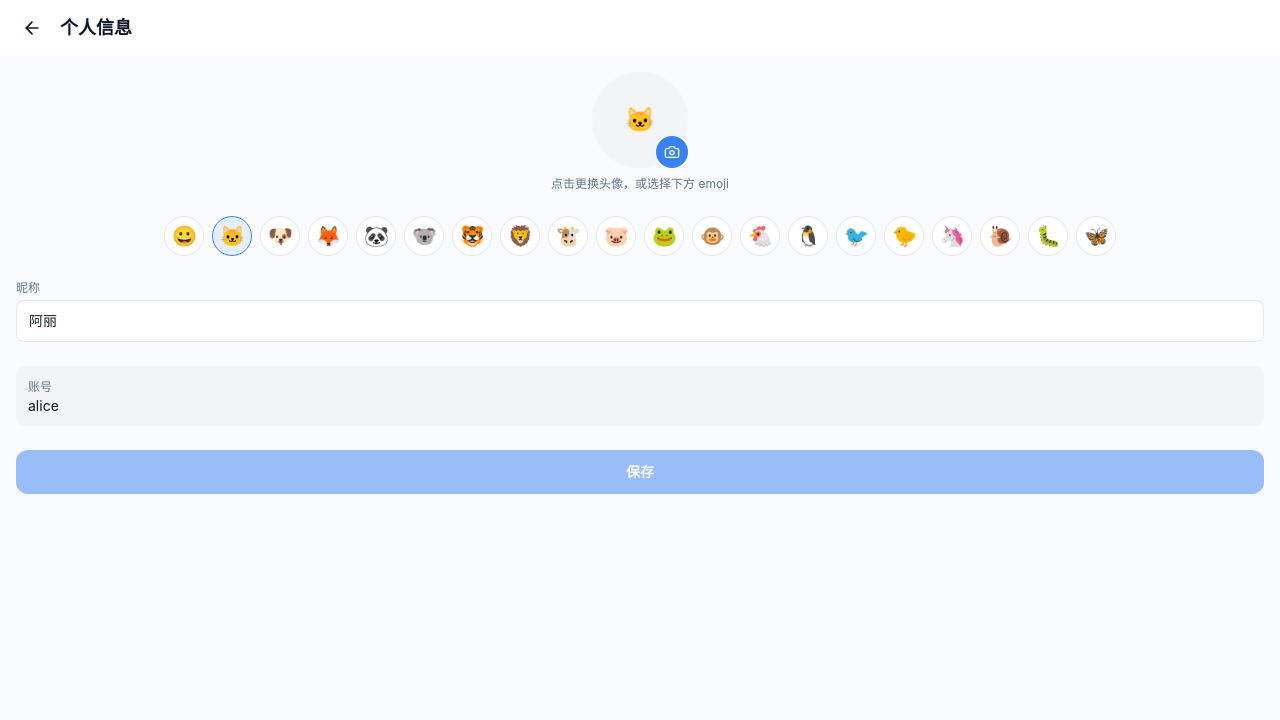
Test: ProfilePage 资料编辑 › 保存时服务端答 400 → 显示服务端文案
Replace the text in the field with test id "me-nickname" with "阿丽丽" at (640, 321), box left=16, top=300, right=1264, bottom=342
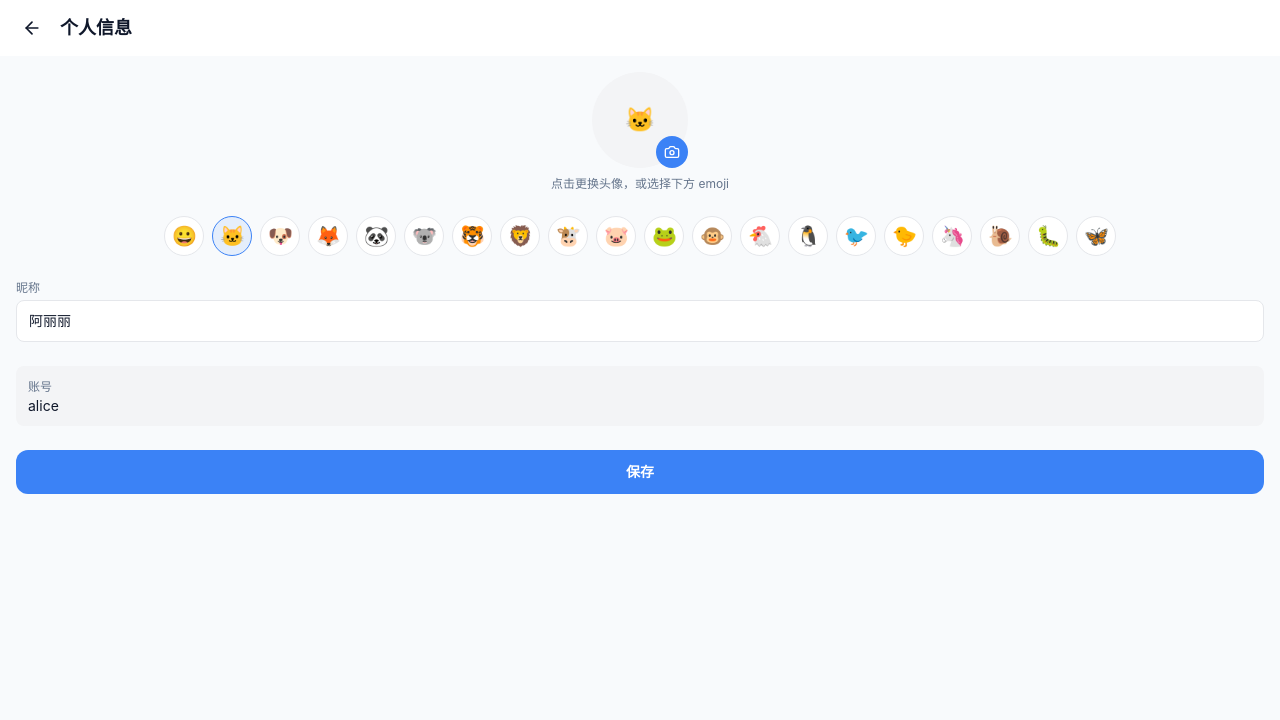
Click the button with test id "me-save" at (640, 472), box left=16, top=450, right=1264, bottom=494
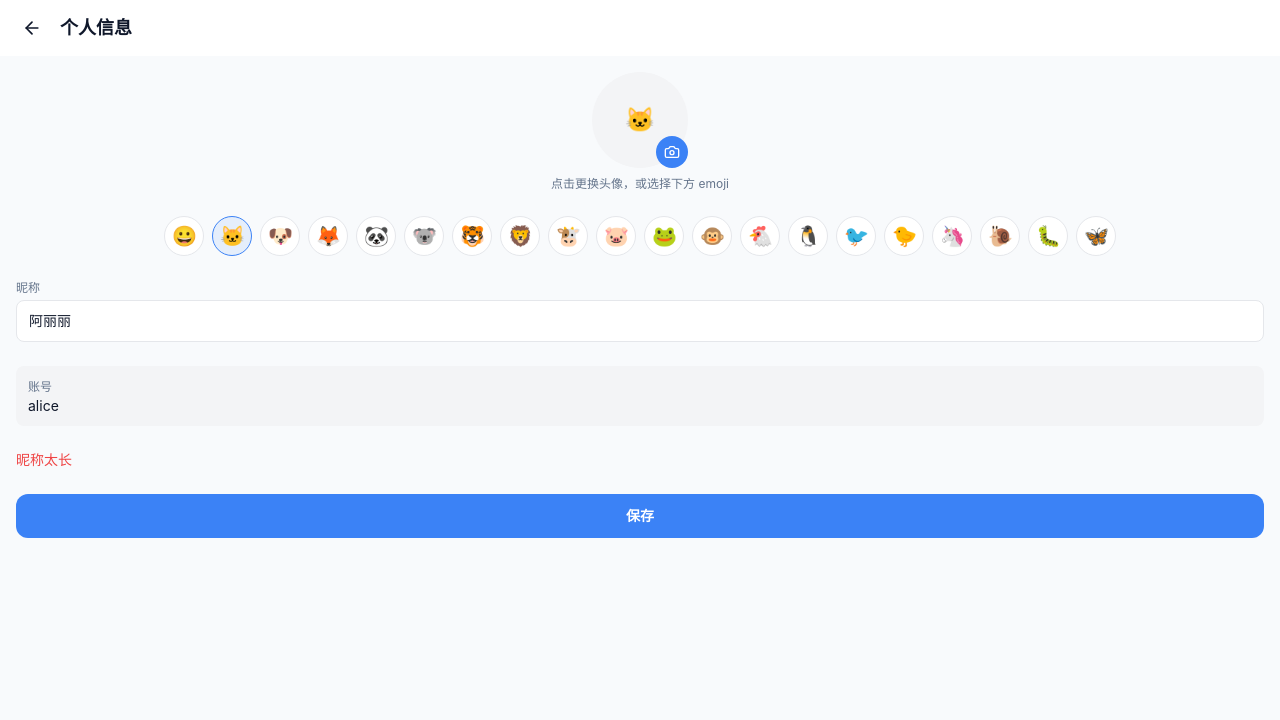
Result: the text with test id "me-error" reads "昵称太长" at left=16, top=451, right=72, bottom=468
